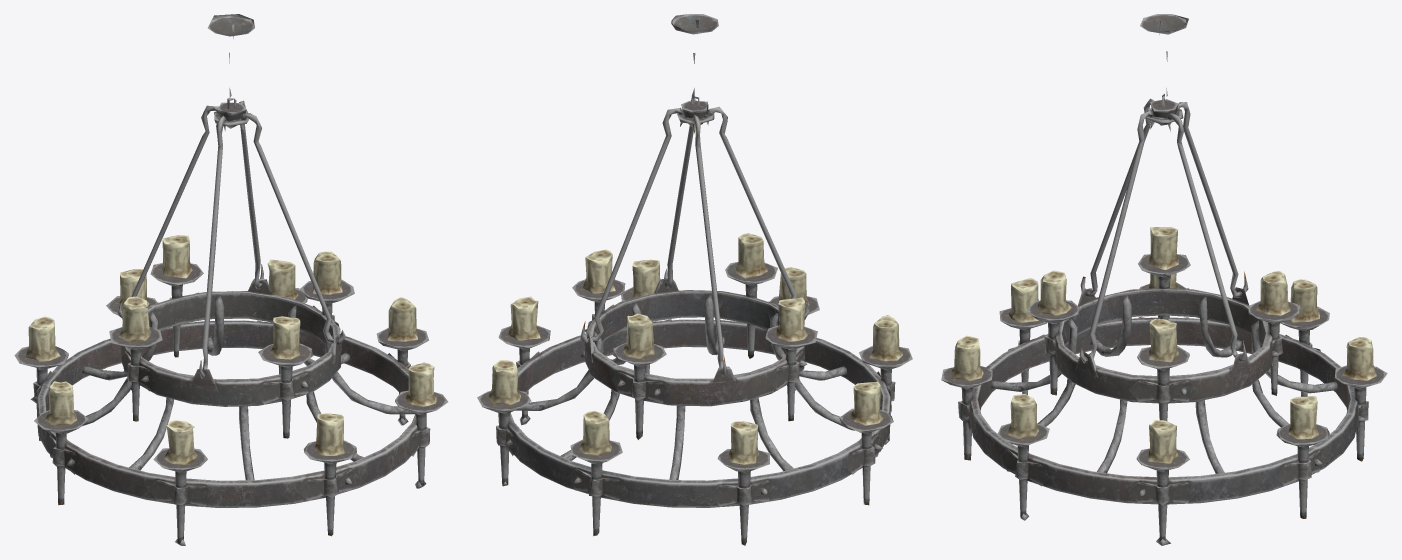
File: SM_chandelier.fbx
The picture shows the model from 3 angles, left to right: view 1: azimuth 30°, elevation 25°; view 2: azimuth 150°, elevation 25°; view 3: azimuth 270°, elevation 25°; orthographic projection.
Visible parts, largest first — view 1: SM_chandelier_LOD0; view 2: SM_chandelier_LOD0; view 3: SM_chandelier_LOD0.
Part boxes in pixels (x1,y1,x2,y2): SM_chandelier_LOD0: (14, 14, 448, 545); SM_chandelier_LOD0: (477, 14, 912, 545); SM_chandelier_LOD0: (941, 14, 1387, 545).
Size of the model in its own units: 174 by 175 by 191.
